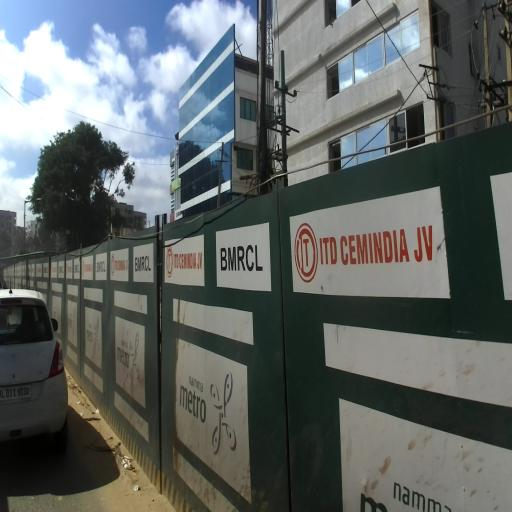street_light_0: (24, 196, 42, 206)
